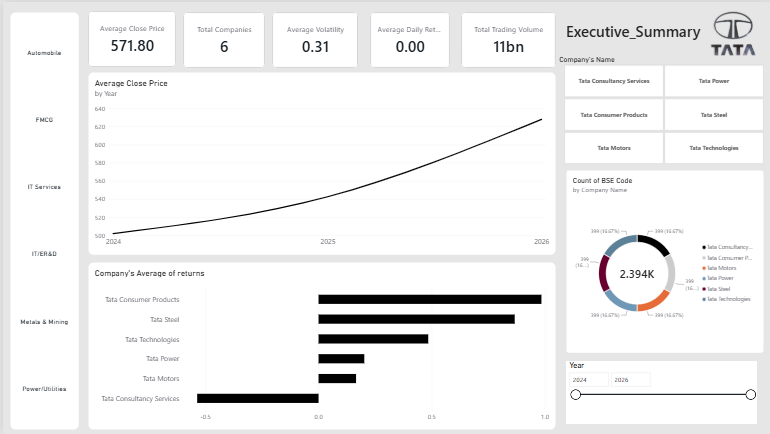

The page's visual inventory and layout, read from the dashboard file:
{"tool":"powerbi","page":{"name":"Page_02_Executive_Summary ","canvas":[1920,1080],"ordinal":1},"visuals":[{"type":"cardVisual","fields":{"Data":["tata_group_stock_cleaned.Average Close Price"]},"box":[211.7,21.6,220,140],"z":0},{"type":"cardVisual","fields":{"Data":["tata_group_stock_cleaned.Average Daily Return"]},"box":[918,23.8,200,140],"z":1000},{"type":"cardVisual","fields":{"Data":["tata_group_stock_cleaned.Total Trading Volume"]},"box":[1144.8,23.8,237.5,140],"z":2000},{"type":"cardVisual","fields":{"Data":["tata_group_stock_cleaned.Average Volatility"]},"box":[671.8,23.8,216,140.4],"z":3000},{"type":"cardVisual","fields":{"Data":["tata_group_stock_cleaned.Total Companies"]},"box":[449.3,23.8,205,140],"z":4000},{"type":"lineChart","fields":{"Category":["tata_group_stock_cleaned.Date.Variation.Date Hierarchy.Year","tata_group_stock_cleaned.Date.Variation.Date Hierarchy.Quarter","tata_group_stock_cleaned.Date.Variation.Date Hierarchy.Month","tata_group_stock_cleaned.Date.Variation.Date Hierarchy.Day"],"Y":["tata_group_stock_cleaned.Average Close Price"]},"box":[212.5,175,1170,457.5],"z":5000},{"type":"clusteredBarChart","title":"Company''s Average of returns","fields":{"Category":["tata_group_stock_cleaned.Company Name"],"Y":["Sum(tata_group_stock_cleaned.returns)"]},"box":[212.5,650,1170,420],"z":6000},{"type":"slicer","fields":{"Values":["tata_group_stock_cleaned.Company Name"]},"box":[1382.4,131.8,537.8,274.3],"z":7000},{"type":"advancedSlicerVisual","fields":{"Values":["tata_group_stock_cleaned.Sector"]},"box":[17.3,23.8,172.8,1045.4],"z":8000},{"type":"slicer","fields":{"Values":["tata_group_stock_cleaned.Date.Variation.Date Hierarchy.Year"]},"box":[1408.3,898.6,477.4,155.5],"z":9000},{"type":"donutChart","fields":{"Y":["CountNonNull(tata_group_stock_cleaned.BSE Code)"],"Category":["tata_group_stock_cleaned.Company Name"]},"box":[1408.3,421.2,494.6,457.9],"z":10000},{"type":"textbox","box":[1408.3,47.5,477.4,69.1],"z":11000},{"type":"image","box":[1721.5,10.8,198.7,142.6],"z":12000}]}

Visuals, with their boxes in screenshot pixels (x1, y1, x2, y2), scaled from the page's 1920x1080 canvas onto the 770x434 screenshot:
cardVisual - tata_group_stock_cleaned.Average Close Price: [x1=85, y1=9, x2=173, y2=65]
cardVisual - tata_group_stock_cleaned.Average Daily Return: [x1=368, y1=10, x2=448, y2=66]
cardVisual - tata_group_stock_cleaned.Total Trading Volume: [x1=459, y1=10, x2=554, y2=66]
cardVisual - tata_group_stock_cleaned.Average Volatility: [x1=269, y1=10, x2=356, y2=66]
cardVisual - tata_group_stock_cleaned.Total Companies: [x1=180, y1=10, x2=262, y2=66]
lineChart - tata_group_stock_cleaned.Date.Variation.Date Hierarchy.Year x tata_group_stock_cleaned.Date.Variation.Date Hierarchy.Quarter: [x1=85, y1=70, x2=554, y2=254]
"Company''s Average of returns" clusteredBarChart: [x1=85, y1=261, x2=554, y2=430]
slicer - tata_group_stock_cleaned.Company Name: [x1=554, y1=53, x2=769, y2=163]
advancedSlicerVisual - tata_group_stock_cleaned.Sector: [x1=7, y1=10, x2=76, y2=430]
slicer - tata_group_stock_cleaned.Date.Variation.Date Hierarchy.Year: [x1=565, y1=361, x2=756, y2=424]
donutChart - CountNonNull(tata_group_stock_cleaned.BSE Code) x tata_group_stock_cleaned.Company Name: [x1=565, y1=169, x2=763, y2=353]
textbox: [x1=565, y1=19, x2=756, y2=47]
image: [x1=690, y1=4, x2=769, y2=62]
